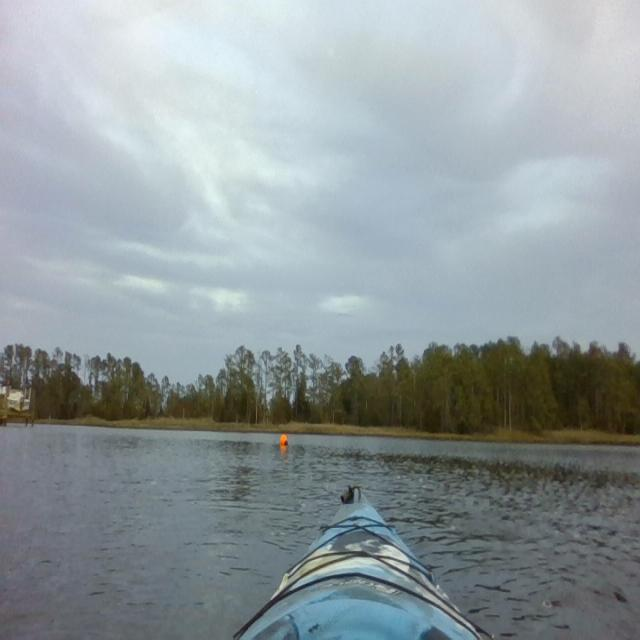Buoy: (279, 433, 289, 449)
